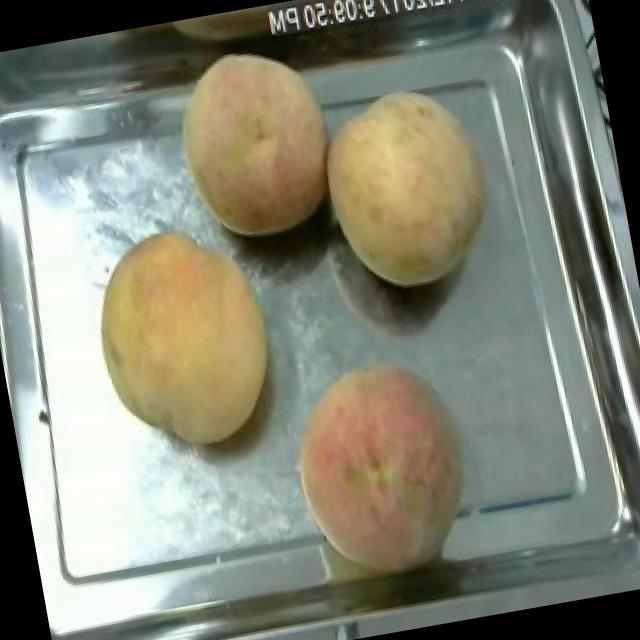Fruit: (72, 205, 296, 470), (268, 340, 486, 590), (304, 68, 514, 309), (154, 29, 350, 258)
